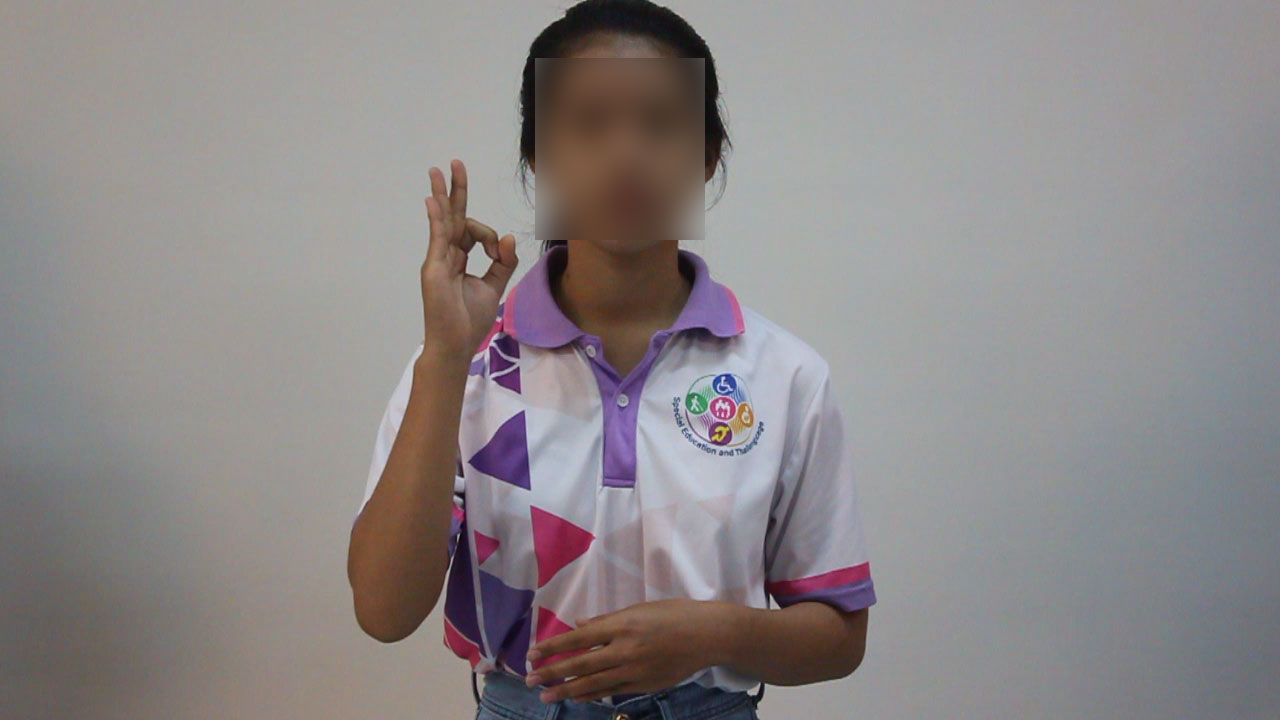for: (403, 151, 528, 369)
